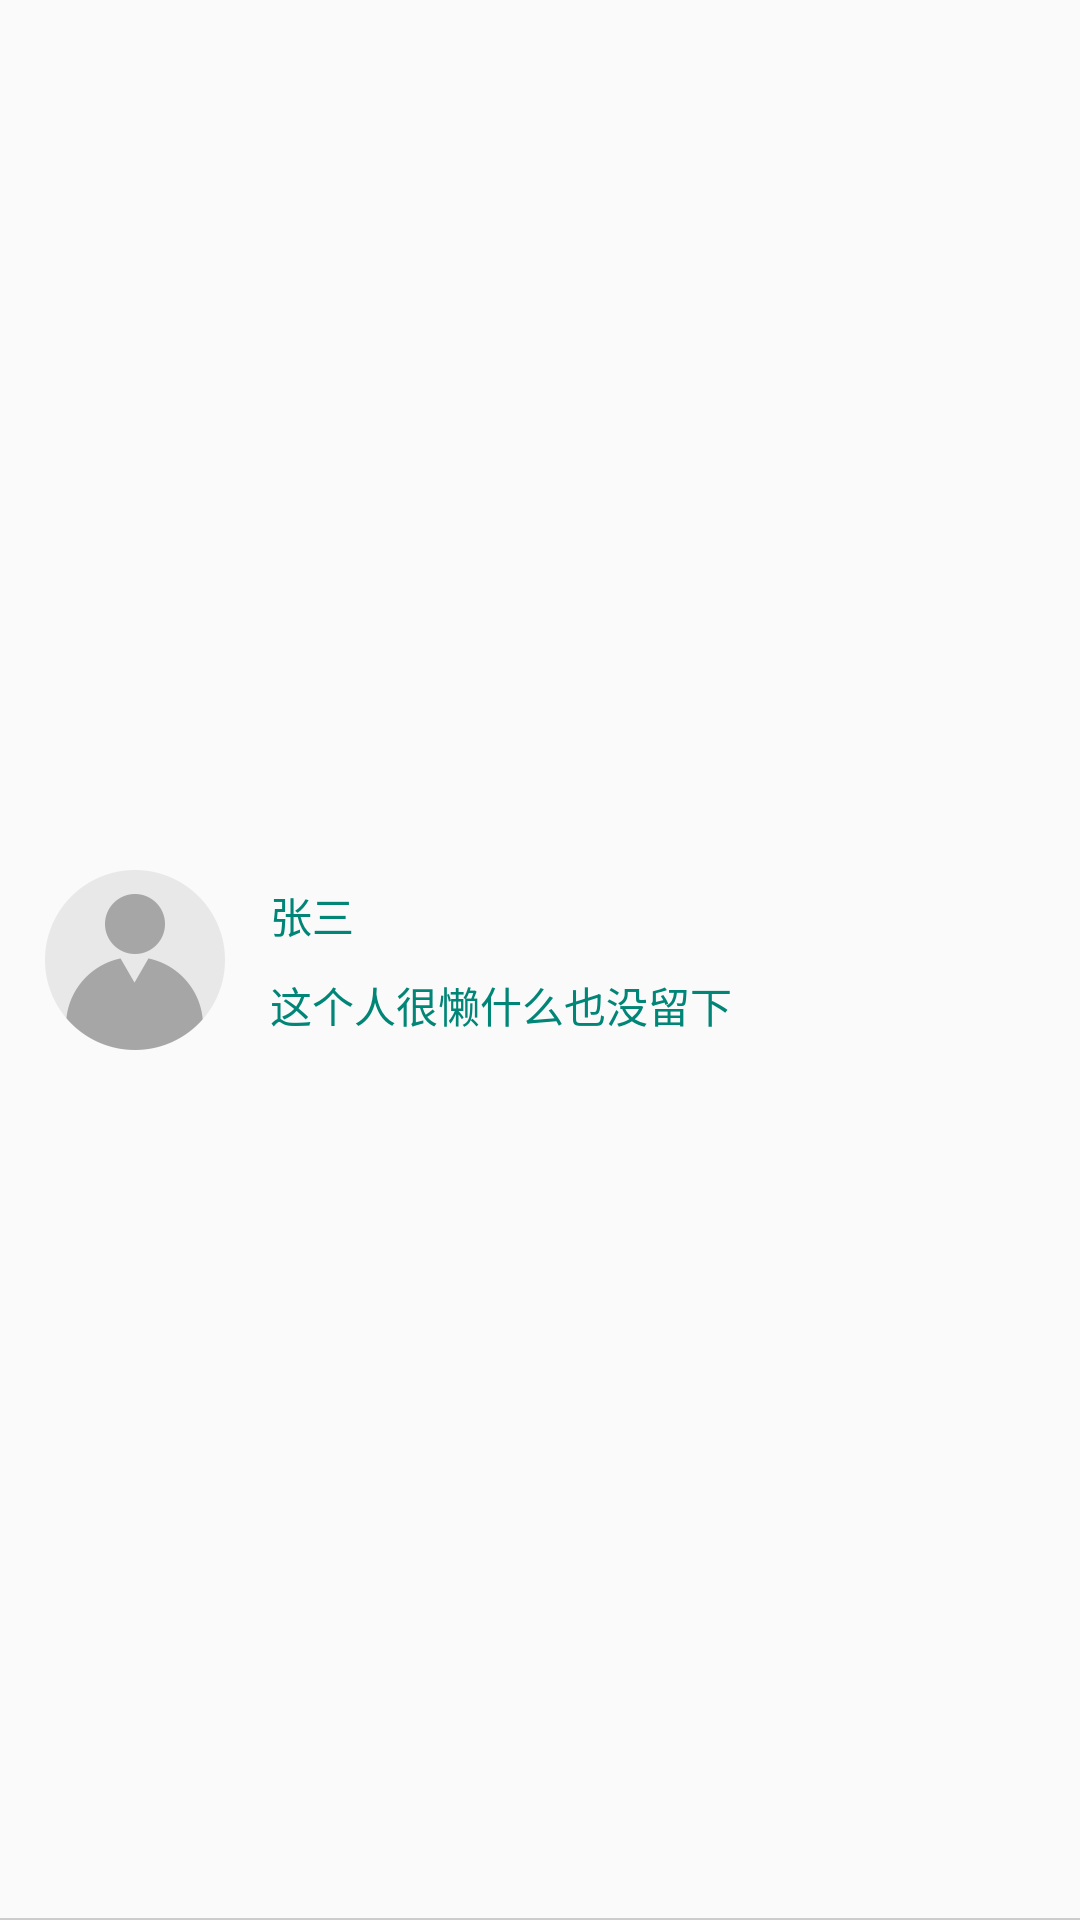

Icons on this 1080 × 1920 Android screen, each with its box as (x1, y1, x2, y2):
patient ava: (66, 894, 203, 1050)
